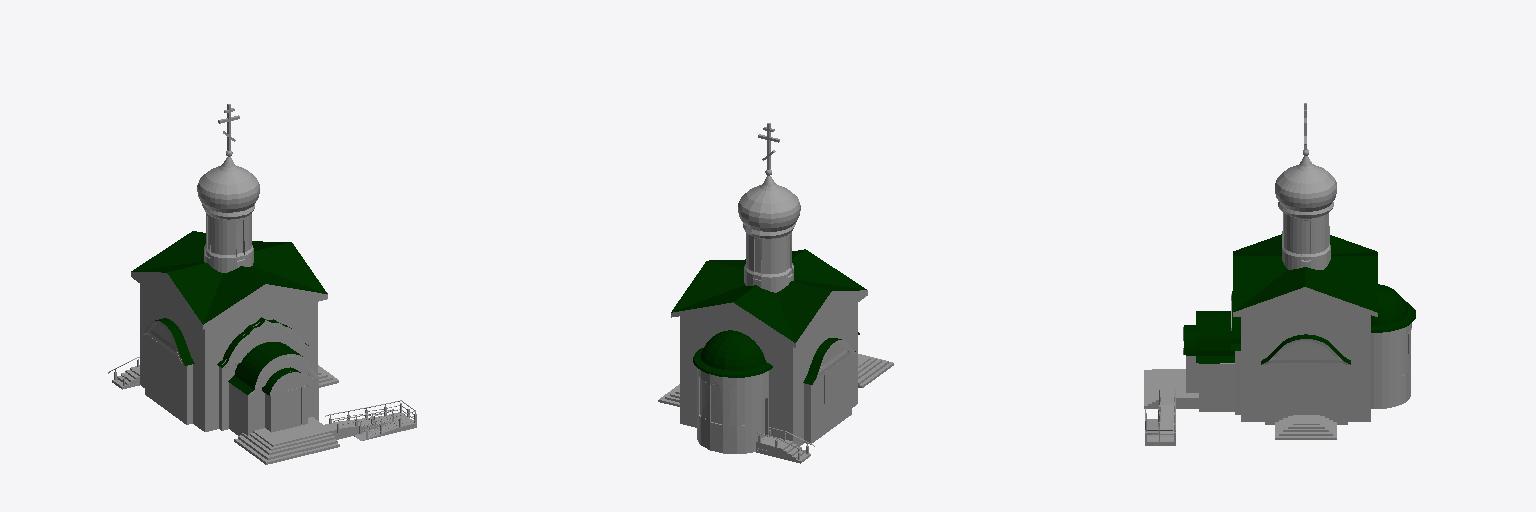
The model's file is Hram_1.obj.
The picture shows the model from 3 angles: view 1: azimuth 30°, elevation 25°; view 2: azimuth 150°, elevation 25°; view 3: azimuth 270°, elevation 25°; orthographic projection.
Visible parts, largest first — view 1: Cube; view 2: Cube; view 3: Cube.
Boxes of the visible parts, box(x1,y1,x2,y2) form: Cube: box(108, 104, 416, 464); Cube: box(658, 123, 893, 463); Cube: box(1144, 103, 1415, 445).
Size of the model in its own units: 1.81 by 2.69 by 2.29.